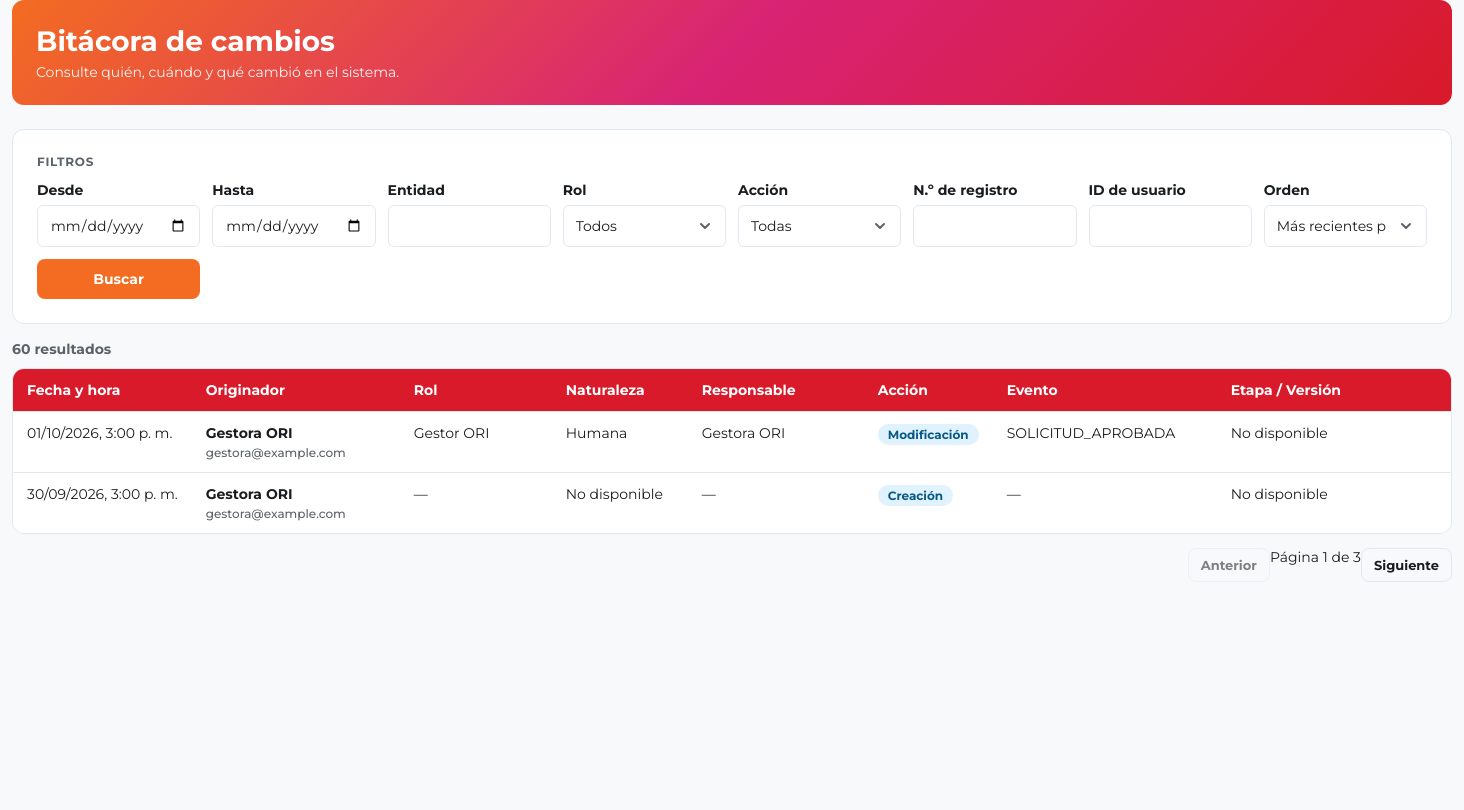
Test: BitacoraPage › pide la siguiente página con el desplazamiento correspondiente
Expected: the text "Página 1 de 3" is shown, [1270,548,1361,566]
Click the button "Siguiente".
click(1406, 565)  # box [1361,548,1452,582]
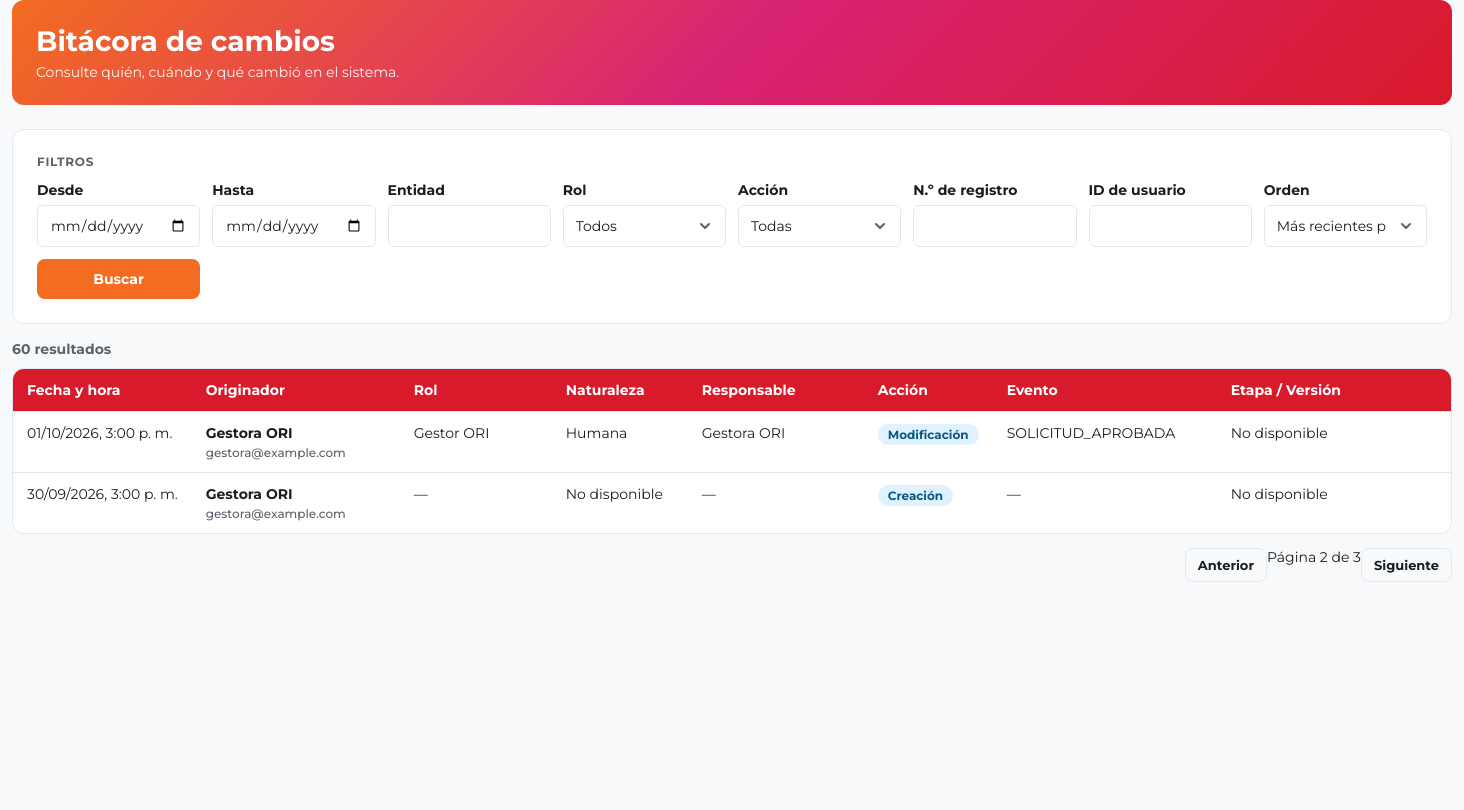
Expected: the text "Página 2 de 3" is shown, [1267,548,1361,566]
